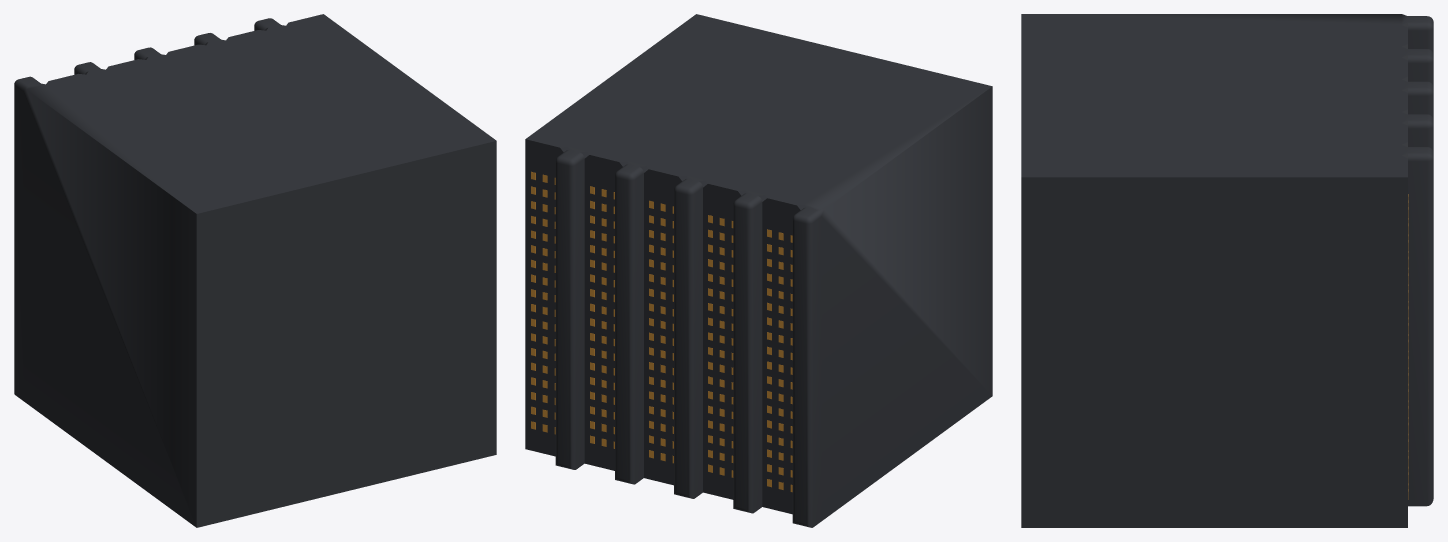
The model's file is Background.fbx.
The picture shows the model from 3 angles, left to right: view 1: azimuth 30°, elevation 25°; view 2: azimuth 150°, elevation 25°; view 3: azimuth 270°, elevation 25°; orthographic projection. The views are drawn at different scales.
Parts seen in each view (by area): view 1: House_background; view 2: House_background, Window_background; view 3: House_background.
Boxes of the visible parts, x1=… form: House_background: x1=14, y1=14, x2=496, y2=527; House_background: x1=525, y1=14, x2=992, y2=527; Window_background: x1=531, y1=171, x2=792, y2=492; House_background: x1=1021, y1=14, x2=1433, y2=527.
Bounding box in the file's own units: 7848 × 7848 × 8367.
